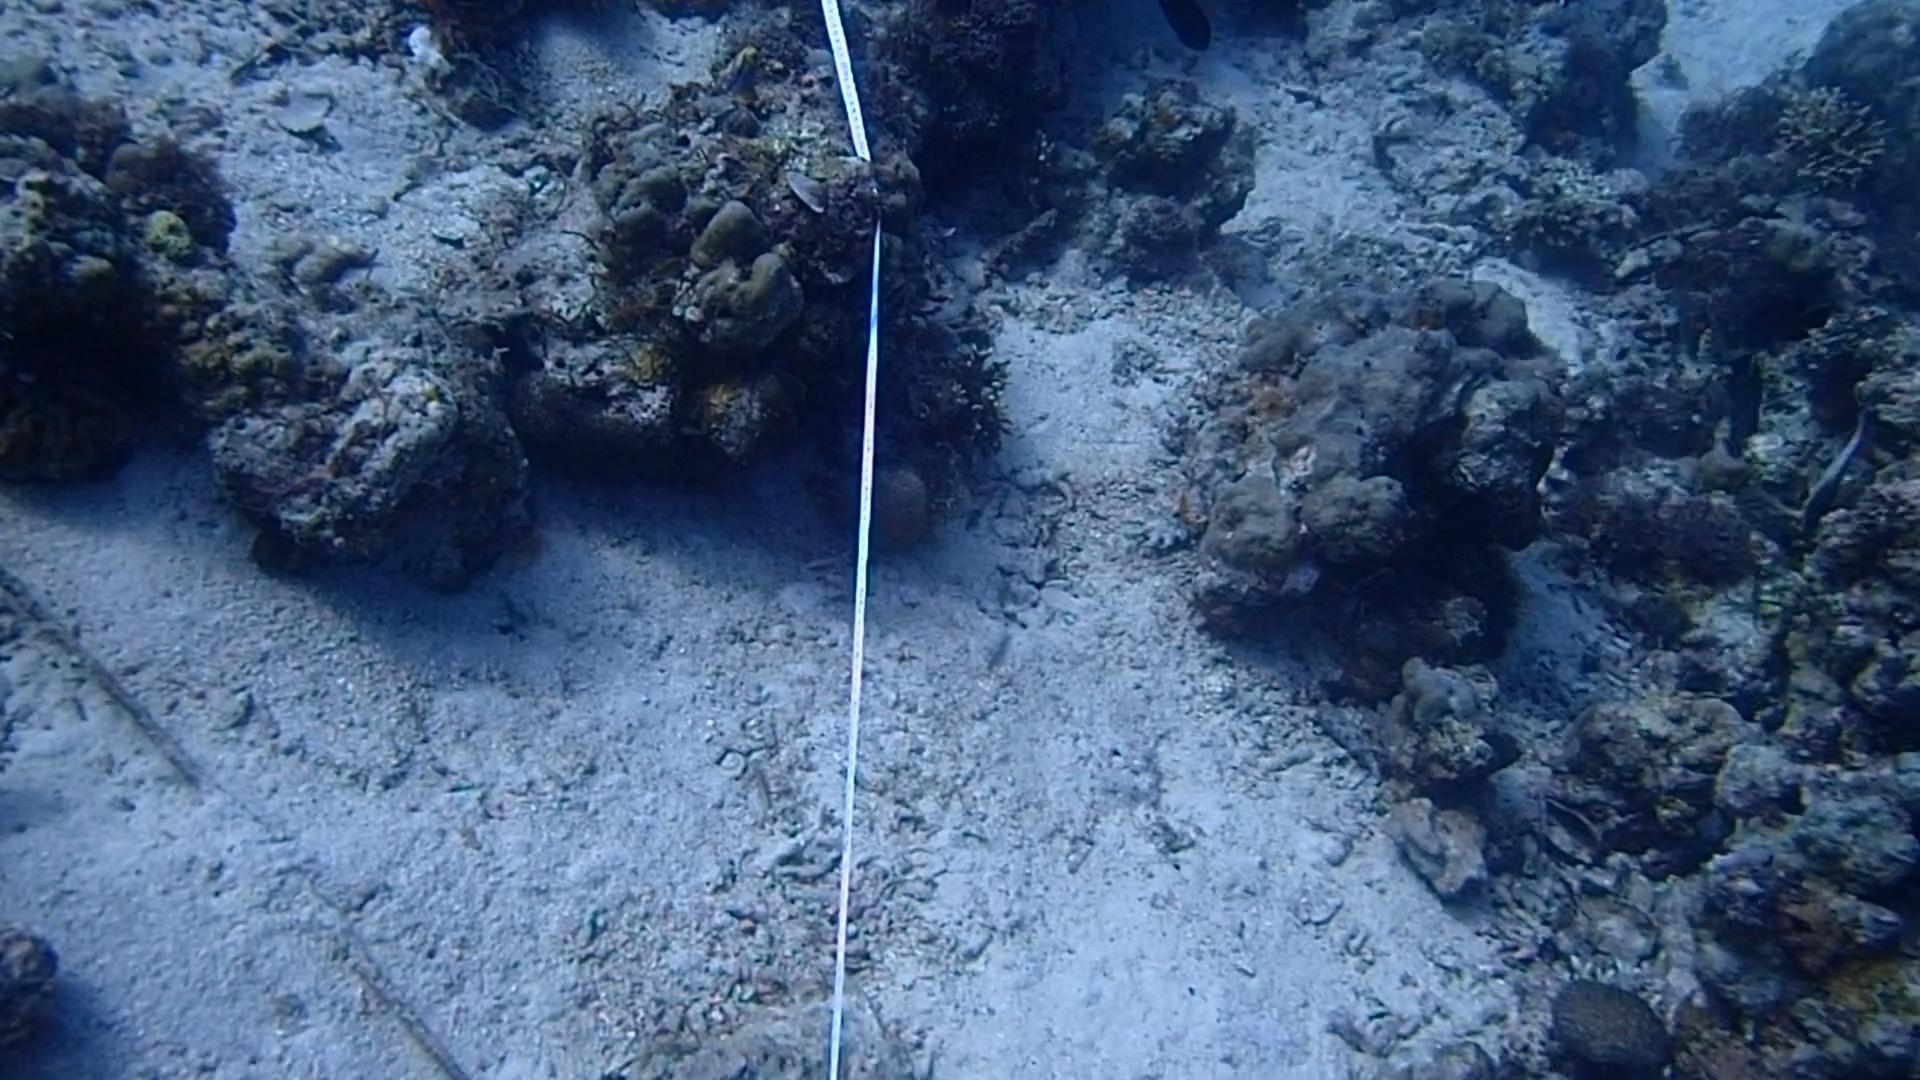Dark Fish: (1718, 285, 1834, 353), (1709, 357, 1783, 440)
